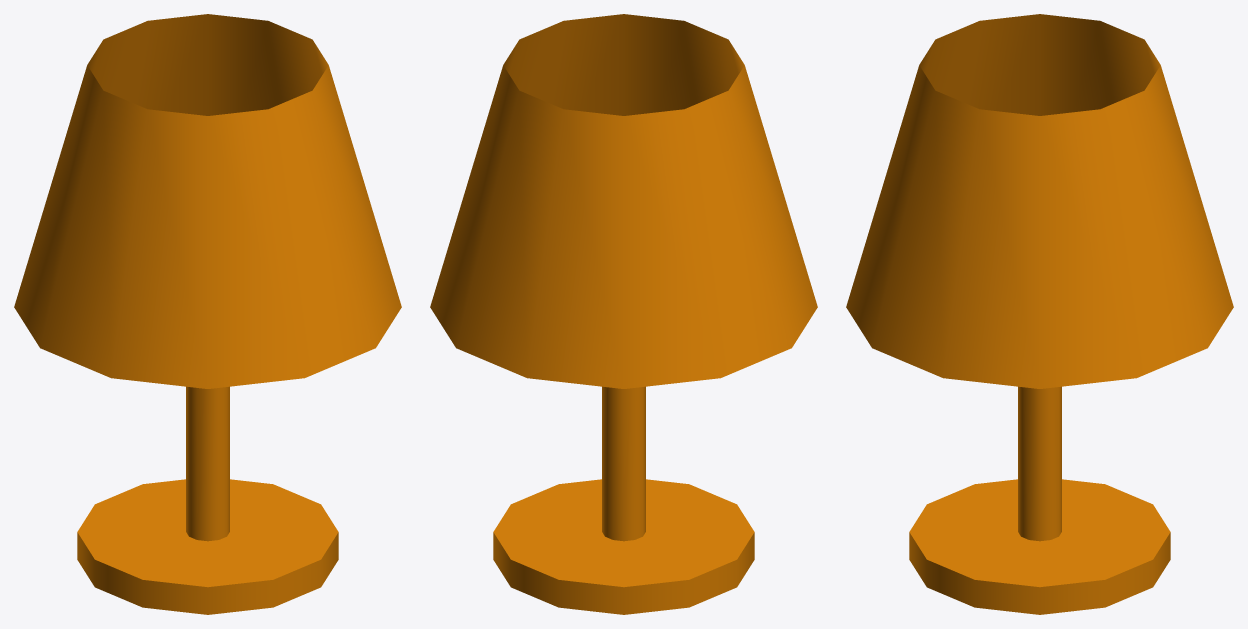
Rendered from Lamp.fbx.
3 renders of one model, left to right at view 1: azimuth 30°, elevation 25°; view 2: azimuth 150°, elevation 25°; view 3: azimuth 270°, elevation 25°, orthographic.
Visible parts, largest first — view 1: StandLamp; view 2: StandLamp; view 3: StandLamp.
Part boxes in pixels (x1,y1,x2,y2): StandLamp: [14, 14, 401, 614]; StandLamp: [430, 14, 817, 614]; StandLamp: [846, 14, 1233, 614].
Bounding box in the file's own units: 35.56 × 50.06 × 35.56.
